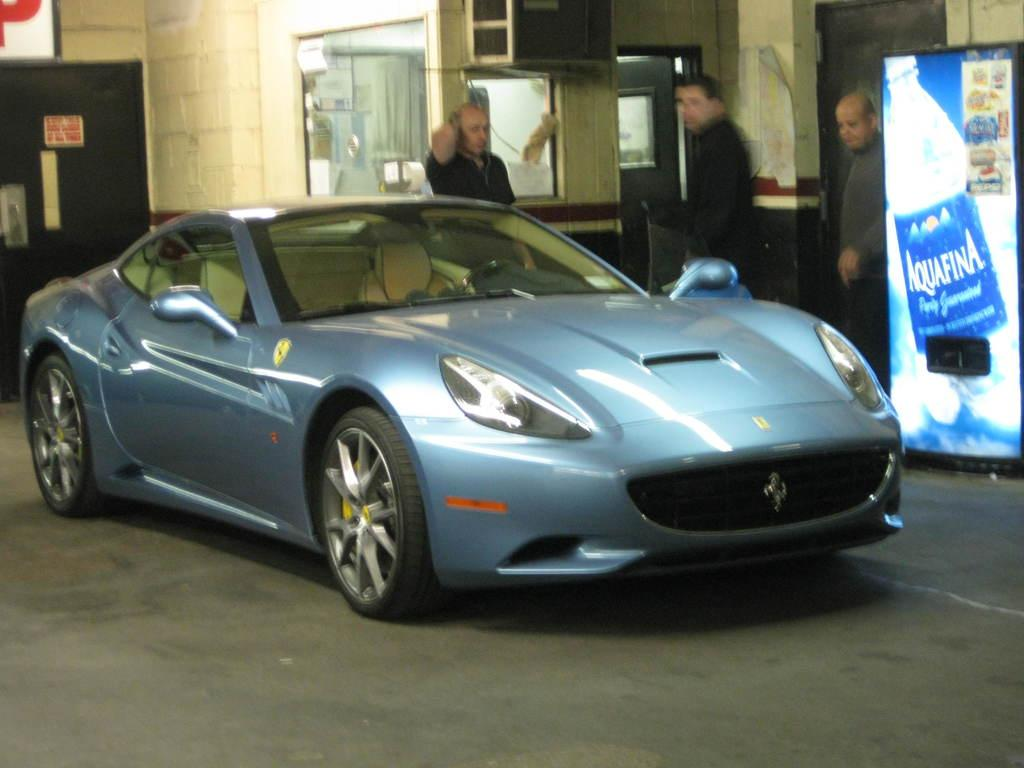Car: (17, 196, 906, 621)
